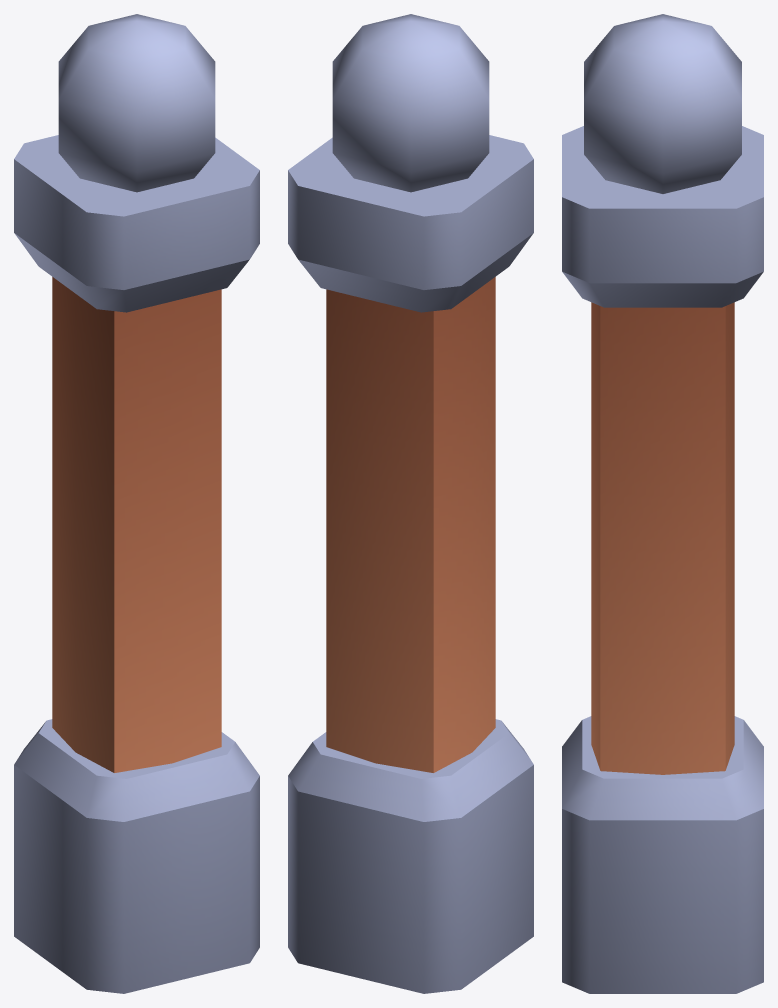
File: pillar-large_lev2.glb
3 renders of one model, left to right at view 1: azimuth 30°, elevation 25°; view 2: azimuth 150°, elevation 25°; view 3: azimuth 270°, elevation 25°, orthographic.
Parts seen in each view (by area): view 1: pillar-large_lev2; view 2: pillar-large_lev2; view 3: pillar-large_lev2.
Part boxes in pixels (x1,y1,x2,y2): pillar-large_lev2: [14, 14, 259, 993]; pillar-large_lev2: [288, 14, 533, 993]; pillar-large_lev2: [562, 14, 763, 993].
Bounding box in the file's own units: 1.77 × 9 × 1.77.
Materials: 1 (1 with a texture image).
